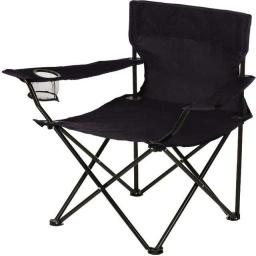Chair: (3, 1, 256, 254)
